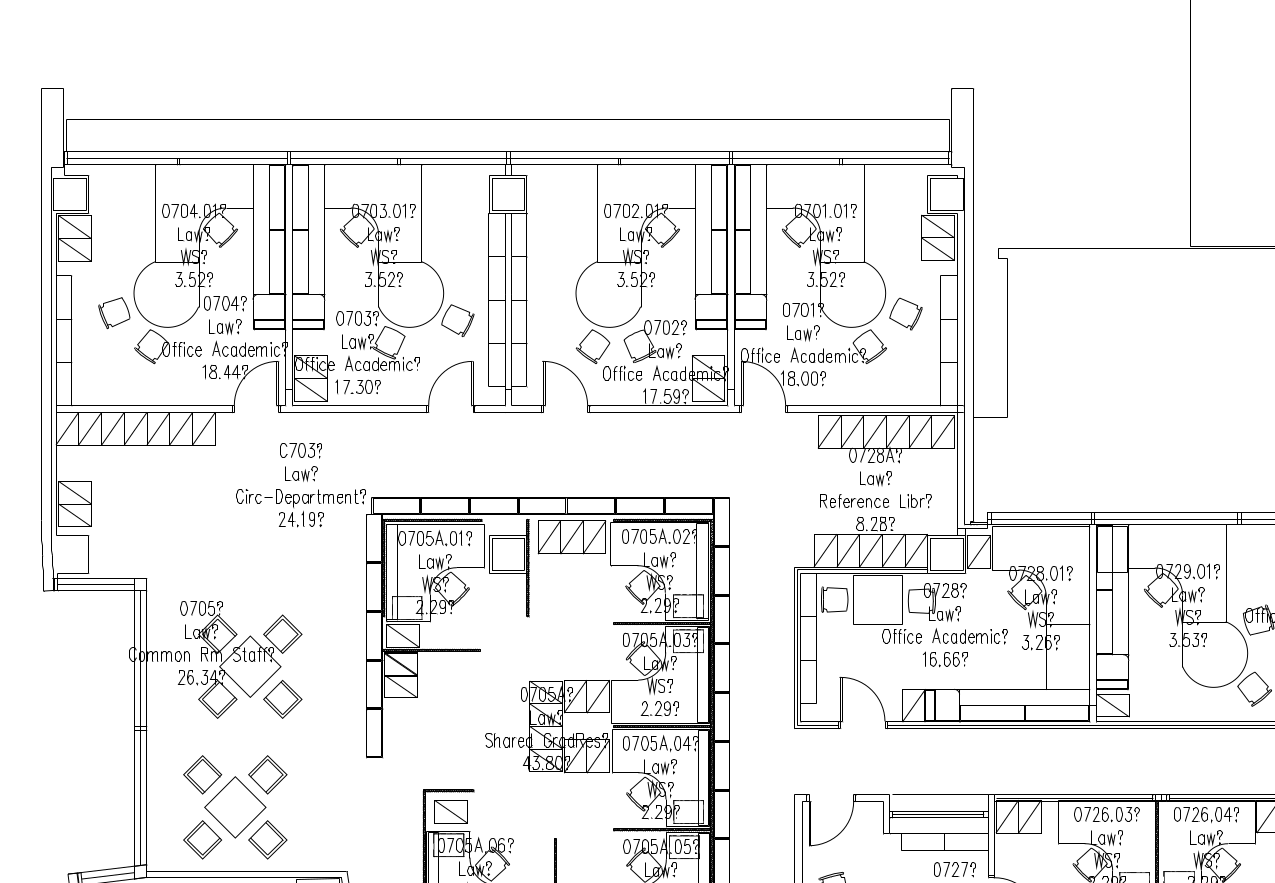door: (807, 794, 861, 853), (835, 670, 889, 729), (737, 356, 791, 415), (536, 355, 590, 414), (424, 354, 478, 413), (227, 355, 281, 414)
